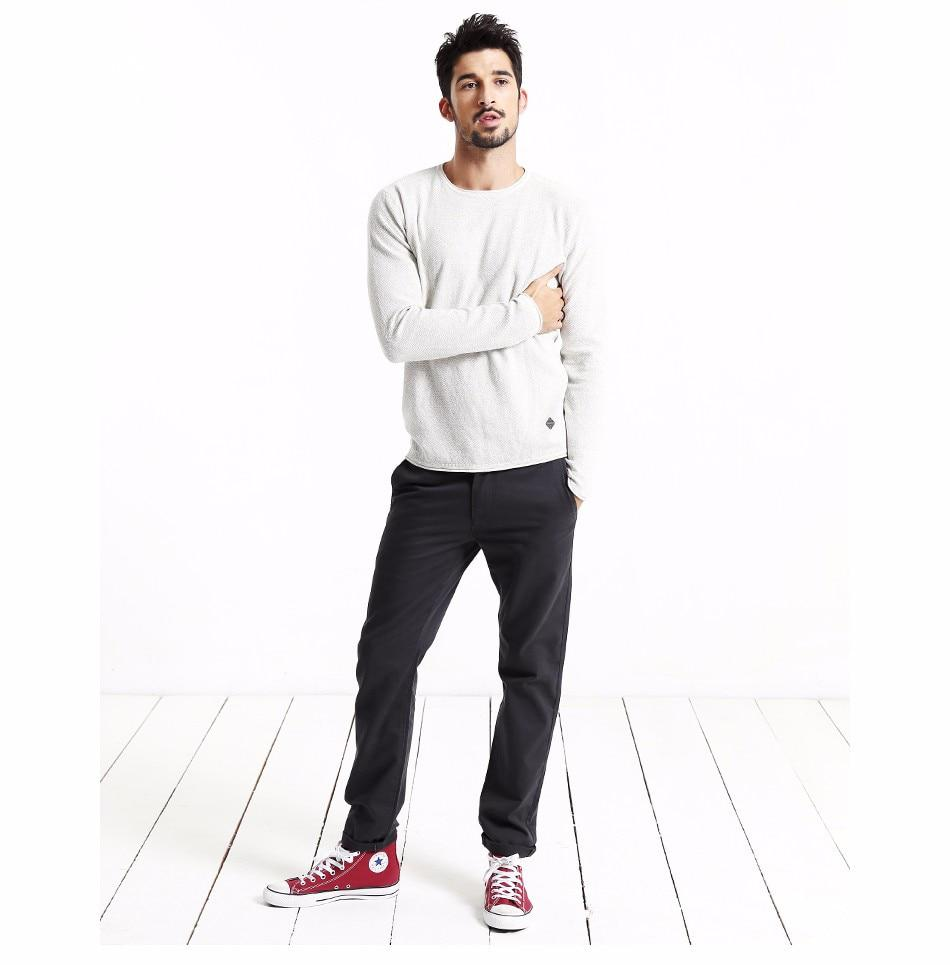pants: (348, 455, 578, 858)
